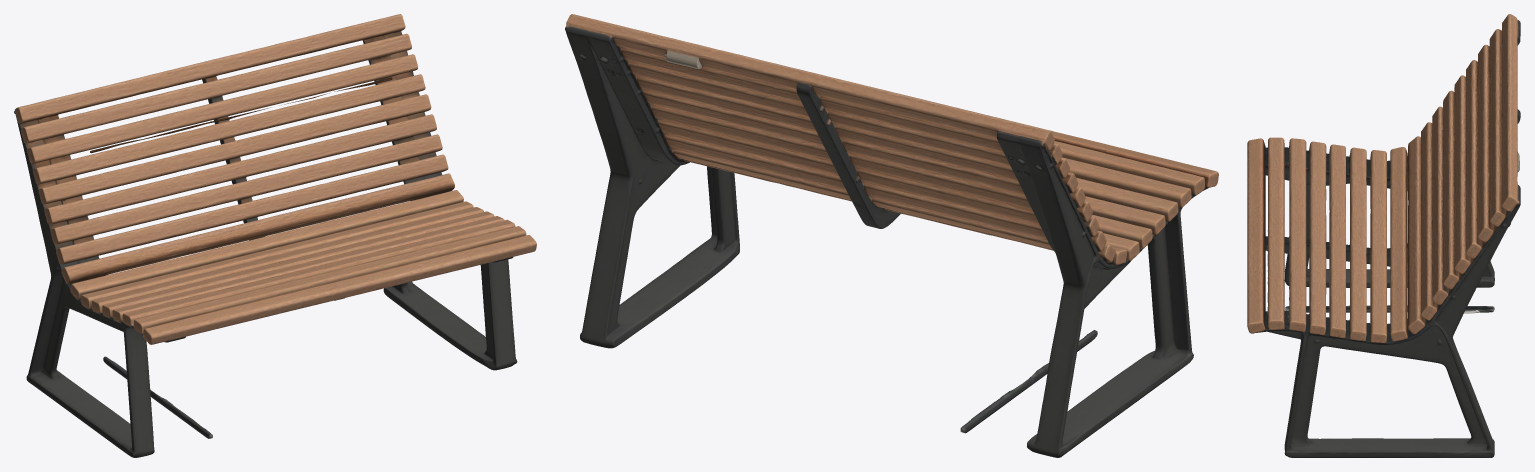
Rendered from benchslat.glb.
3 views of the same model, side by side, from view 1: azimuth 30°, elevation 25°; view 2: azimuth 150°, elevation 25°; view 3: azimuth 270°, elevation 25° (orthographic). The views are drawn at different scales.
Visible parts, largest first — view 1: tripo_node_187c0388-e9b6-4828-8fcf-9b74c34d3c89; view 2: tripo_node_187c0388-e9b6-4828-8fcf-9b74c34d3c89; view 3: tripo_node_187c0388-e9b6-4828-8fcf-9b74c34d3c89.
Part boxes in pixels (<box>): tripo_node_187c0388-e9b6-4828-8fcf-9b74c34d3c89: <box>14,14,536,457</box>; tripo_node_187c0388-e9b6-4828-8fcf-9b74c34d3c89: <box>565,14,1218,457</box>; tripo_node_187c0388-e9b6-4828-8fcf-9b74c34d3c89: <box>1247,14,1520,457</box>.
Size of the model in its own units: 1.13 by 0.75 by 0.7094.
1 material, 1 textured.
